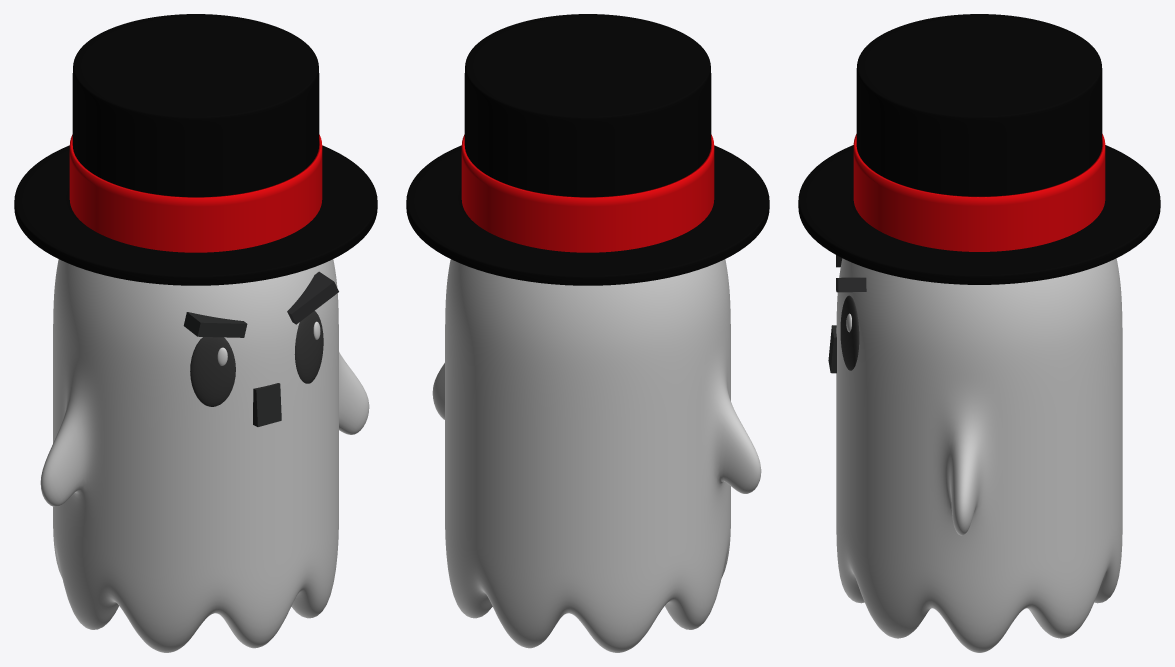
Rendered from Ghost.fbx.
3 renders of one model, left to right at view 1: azimuth 30°, elevation 25°; view 2: azimuth 150°, elevation 25°; view 3: azimuth 270°, elevation 25°, orthographic.
Visible parts, largest first — view 1: ghost; view 2: ghost; view 3: ghost.
Part boxes in pixels (bbox=[...]): ghost: bbox=[14, 14, 377, 652]; ghost: bbox=[406, 14, 769, 652]; ghost: bbox=[798, 14, 1160, 652].
Bounding box in the file's own units: 251 × 394 × 241.
